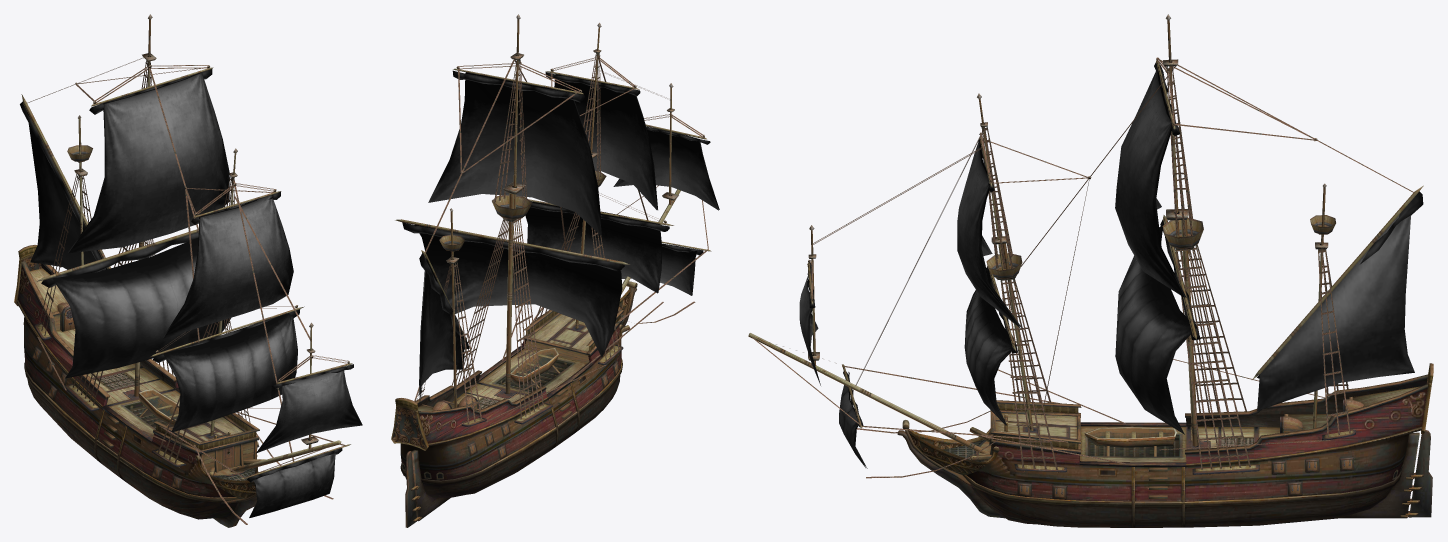
Rendered from T_Ship_05.fbx.
3 renders of one model, left to right at view 1: azimuth 30°, elevation 25°; view 2: azimuth 150°, elevation 25°; view 3: azimuth 270°, elevation 25°, orthographic. The views are drawn at different scales.
Parts seen in each view (by area): view 1: T_Ship_p1, T_Ship_05, T_Ship_05_p2, T_Ship_p1_off, T_Ship_05_p3, T_Ship_05_p4; view 2: T_Ship_p1, T_Ship_05, T_Ship_05_p2, T_Ship_p1_off, T_Ship_05_p3, T_Ship_05_p4, T_Ship_05_p5; view 3: T_Ship_05, T_Ship_p1, T_Ship_05_p2, T_Ship_05_p3, T_Ship_05_p4, T_Ship_p1_off, T_Ship_05_p5.
Boxes of the visible parts, x1,y1,x2,y2 form: T_Ship_p1: [27, 72, 362, 517]; T_Ship_05: [14, 14, 352, 524]; T_Ship_05_p2: [23, 317, 256, 502]; T_Ship_p1_off: [20, 69, 353, 482]; T_Ship_05_p3: [27, 379, 237, 519]; T_Ship_05_p4: [213, 496, 257, 527]; T_Ship_p1: [414, 72, 719, 402]; T_Ship_05: [391, 14, 711, 450]; T_Ship_05_p2: [400, 333, 622, 484]; T_Ship_p1_off: [402, 70, 710, 349]; T_Ship_05_p3: [405, 375, 620, 497]; T_Ship_05_p4: [411, 288, 636, 521]; T_Ship_05_p5: [405, 451, 420, 527]; T_Ship_05: [748, 14, 1433, 487]; T_Ship_p1: [799, 68, 1414, 468]; T_Ship_05_p2: [963, 426, 1409, 507]; T_Ship_05_p3: [971, 486, 1392, 527]; T_Ship_05_p4: [897, 430, 1419, 518]; T_Ship_p1_off: [807, 62, 1423, 427]; T_Ship_05_p5: [1405, 429, 1432, 517].
Size of the model in its own units: 4.8 by 8.91 by 10.99.
